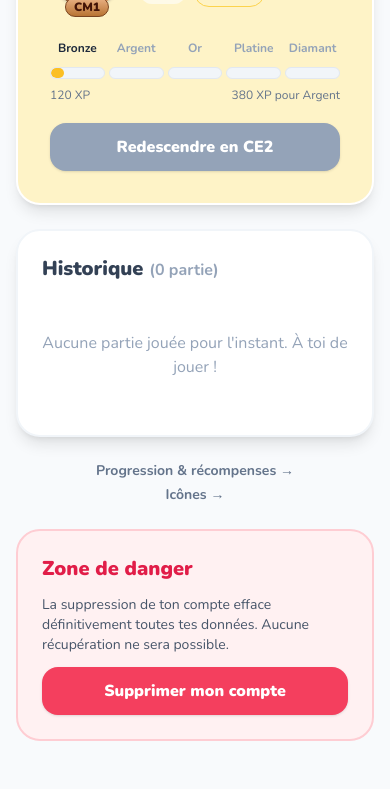
it: ProfilePage danger zone › opens the deletion modal from the danger zone
(page scrolled)
What coordinates should you click on to do the following:
click the button "Supprimer mon compte"
I would click on:
 (195, 691)
Its box is [42, 667, 348, 715].
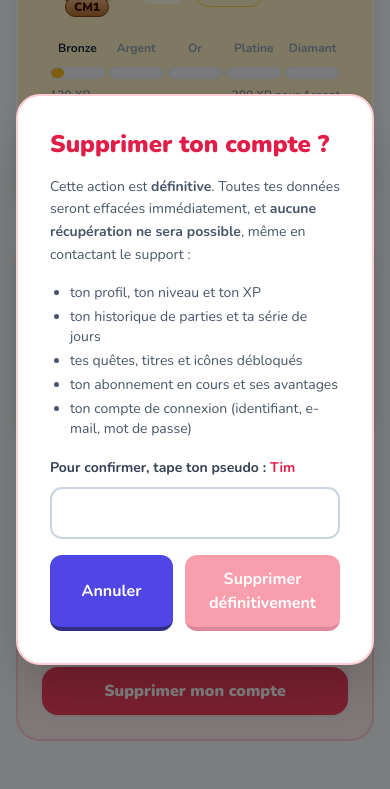
Expected: the dialog "Supprimer ton compte ?" is shown
